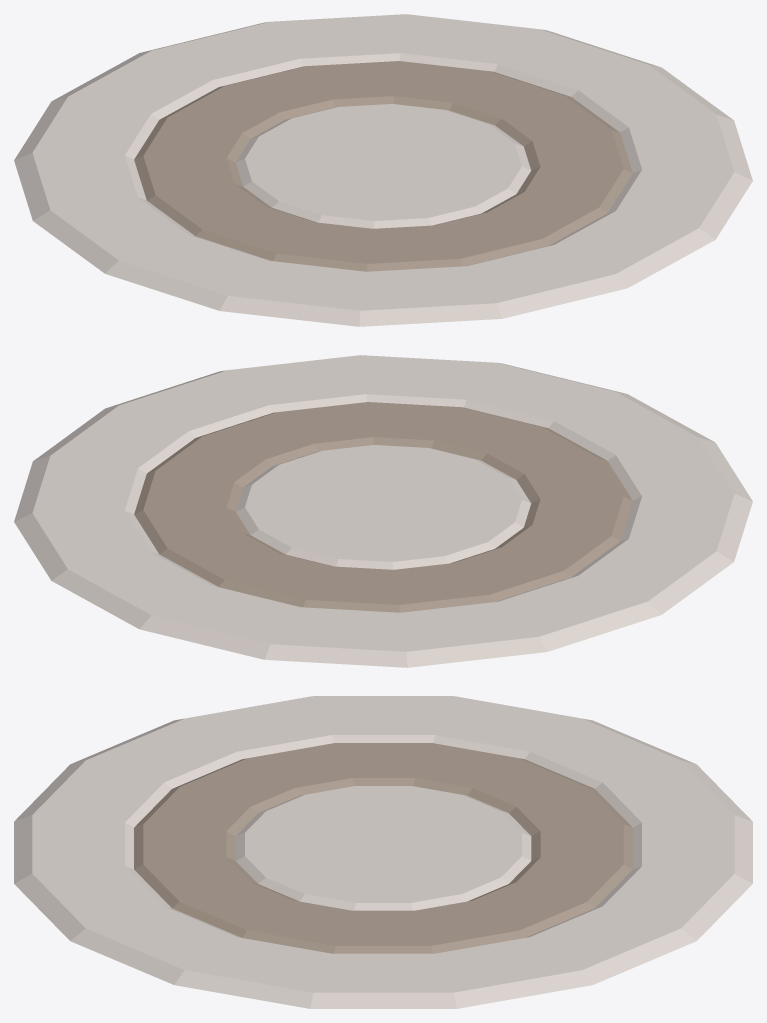
The model's file is Prop_Misc_Rug_Circle.obj.
3 views of the same model, one above another, from view 1: azimuth 30°, elevation 25°; view 2: azimuth 150°, elevation 25°; view 3: azimuth 270°, elevation 25° (orthographic).
Parts seen in each view (by area): view 1: object1; view 2: object1; view 3: object1.
Boxes of the visible parts, box(x1,y1,x2,y2) form: object1: box(14, 14, 752, 326); object1: box(14, 355, 752, 667); object1: box(14, 696, 752, 1008).
Bounding box in the file's own units: 1 × 0.0125 × 1.
